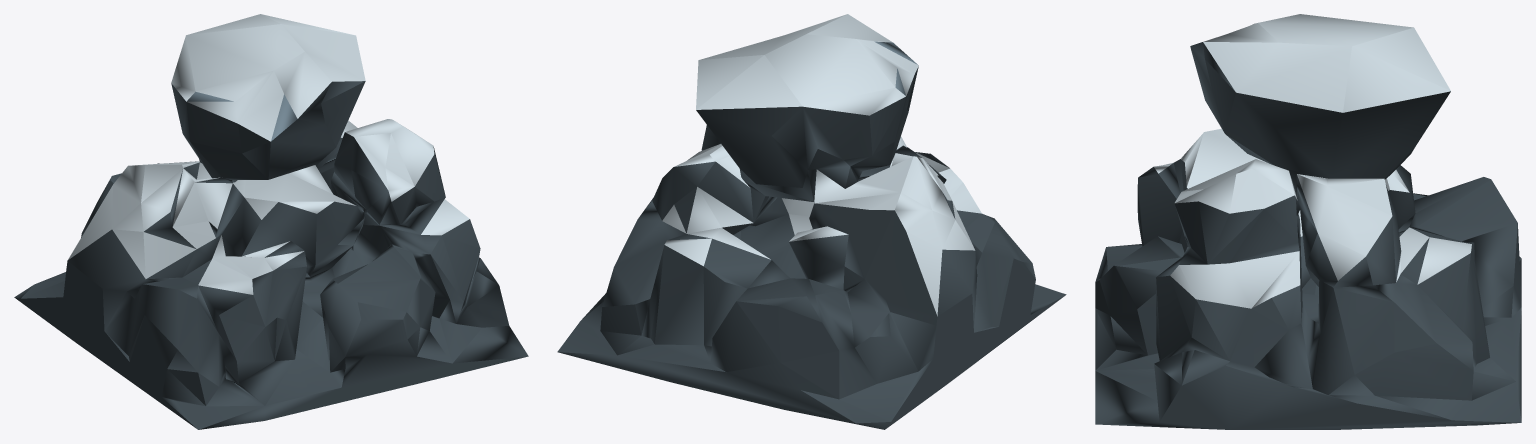
The model's file is cover_half_snow_v1_lod1.glb.
3 views of the same model, side by side, from view 1: azimuth 30°, elevation 25°; view 2: azimuth 150°, elevation 25°; view 3: azimuth 270°, elevation 25° (orthographic). The views are drawn at different scales.
Size of the model in its own units: 0.98 by 0.7805 by 0.98.
